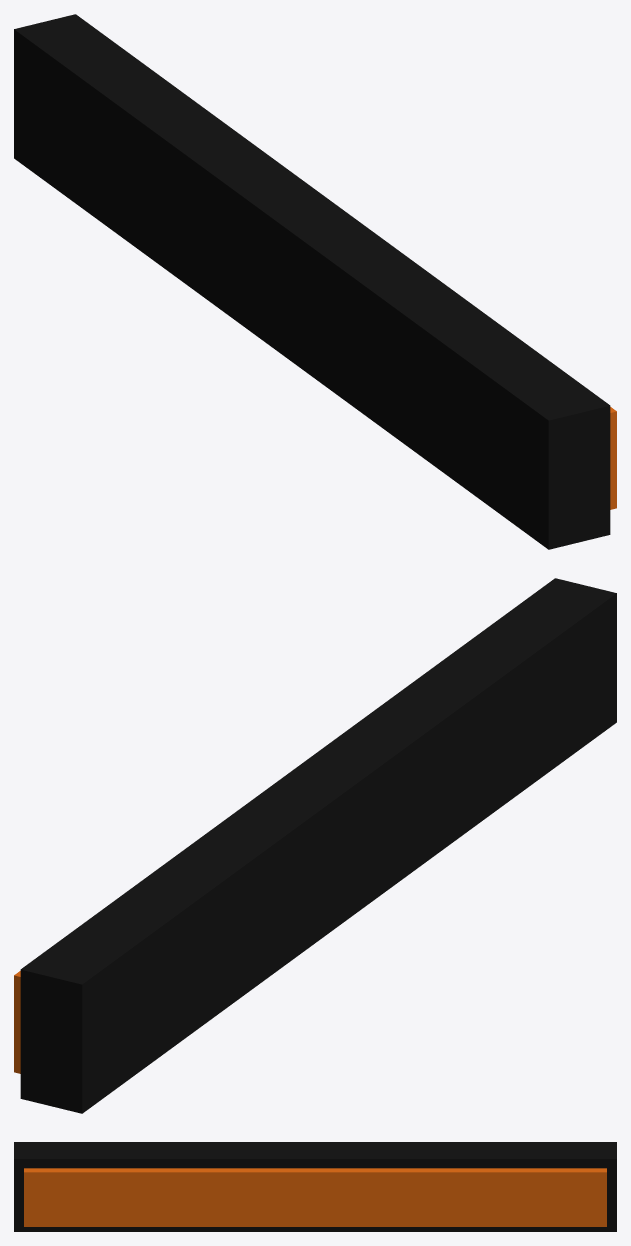
File: city_bus_destination_sign.glb
3 renders of one model, top to bottom at view 1: azimuth 30°, elevation 25°; view 2: azimuth 150°, elevation 25°; view 3: azimuth 270°, elevation 25°, orthographic. The views are drawn at different scales.
Visible parts, largest first — view 1: body:compound; view 2: body:compound; view 3: body:compound.
Boxes of the visible parts, left/top/right/bottom form: body:compound: left=14, top=14, right=616, bottom=549; body:compound: left=14, top=578, right=616, bottom=1113; body:compound: left=14, top=1142, right=616, bottom=1231.
Size of the model in its own units: 0.1562 by 0.25 by 1.88.
